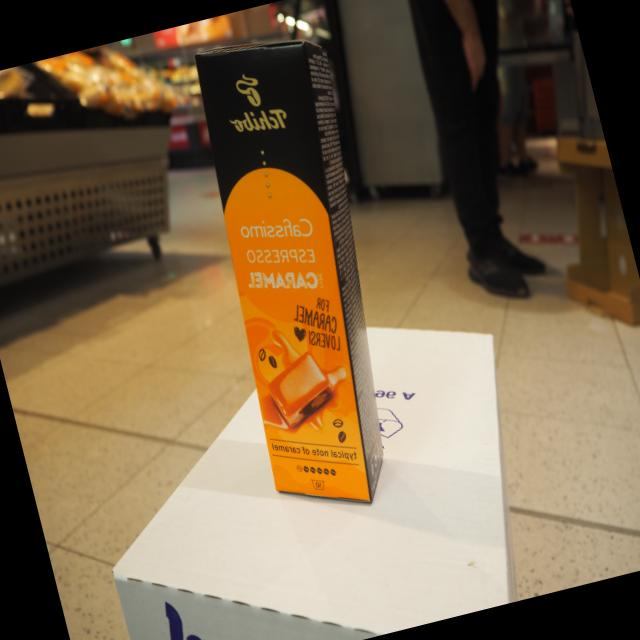Simo Es Caramel: (190, 36, 374, 507)
